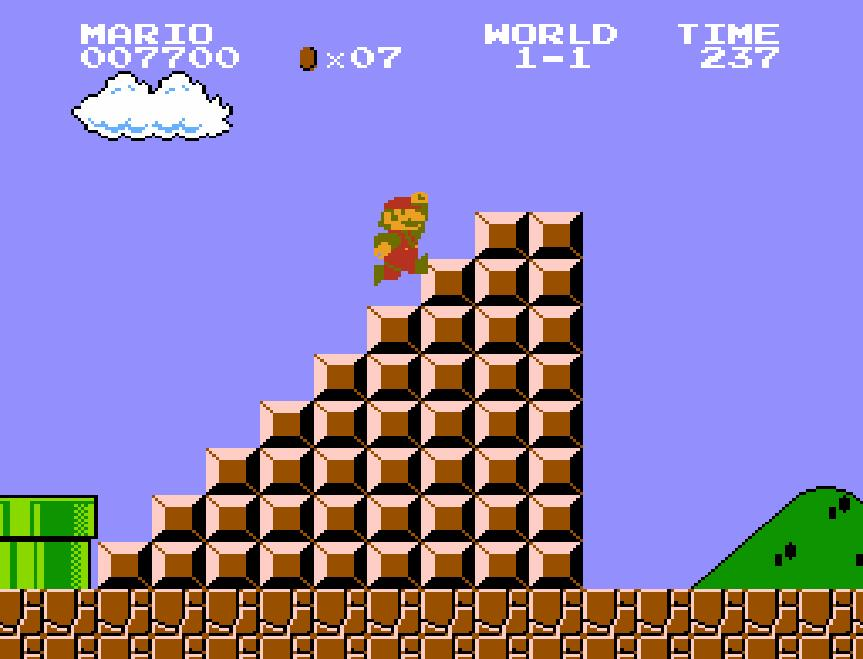big_mario: (372, 189, 430, 287)
